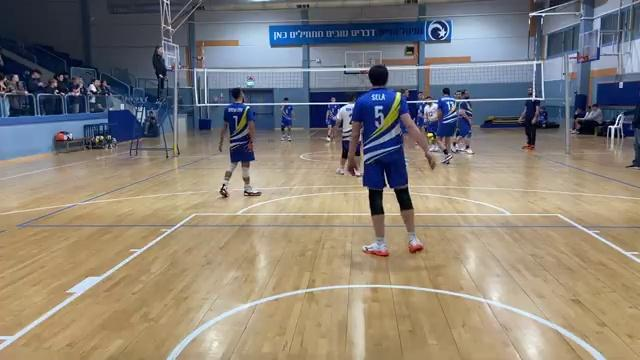ball: (424, 128, 436, 142)
